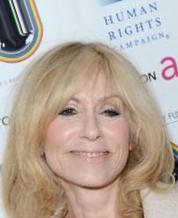face: (59, 98, 122, 163)
